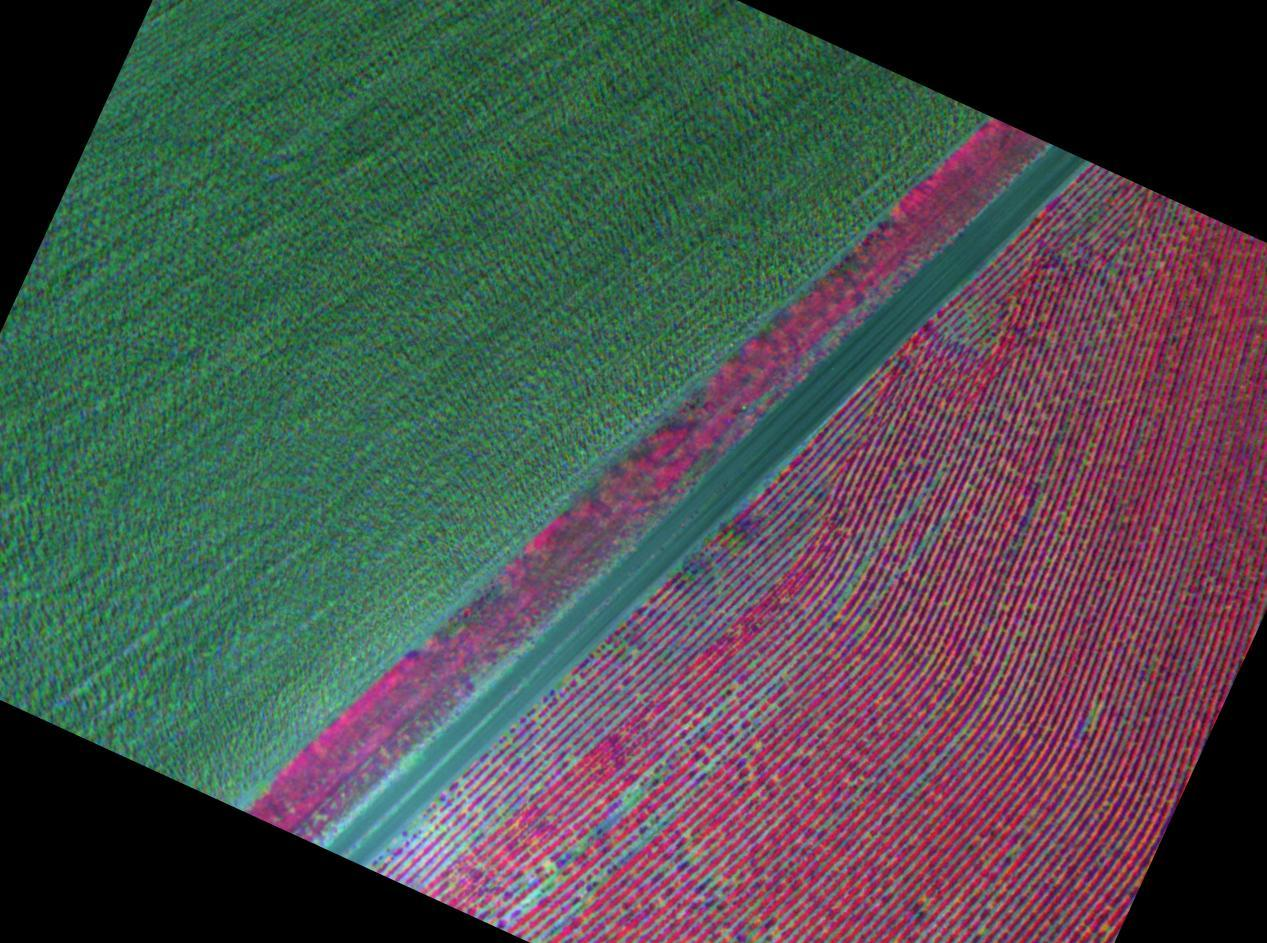dc: (847, 588, 851, 592), (627, 800, 631, 804), (550, 864, 554, 868), (516, 905, 520, 908)
